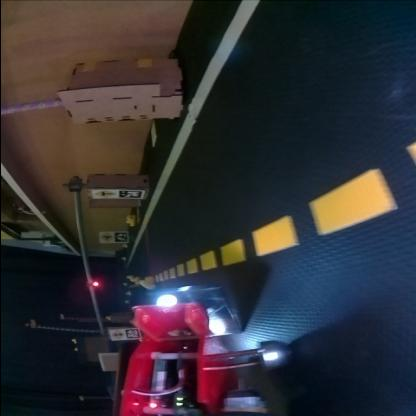Duckie: (138, 277, 154, 290), (125, 215, 132, 222)
Duckiebot: (114, 303, 288, 415)
Intersection sign: (92, 192, 113, 200), (99, 233, 111, 243)
QR code: (117, 191, 141, 201), (113, 233, 125, 243), (124, 330, 136, 338)
Signal sign: (110, 332, 122, 340)
